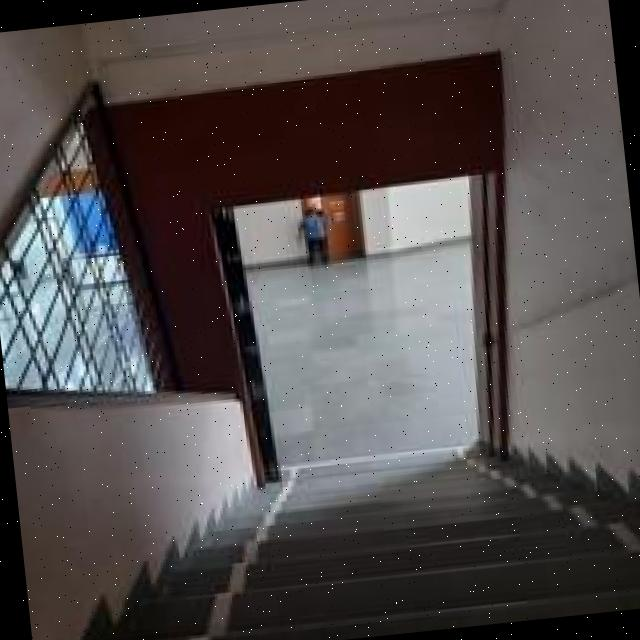stairs: (9, 363, 640, 640)
